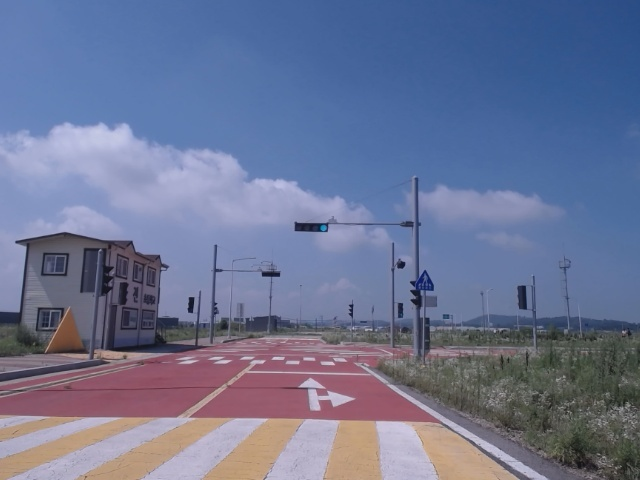straight_green_4: (295, 223, 328, 232)
